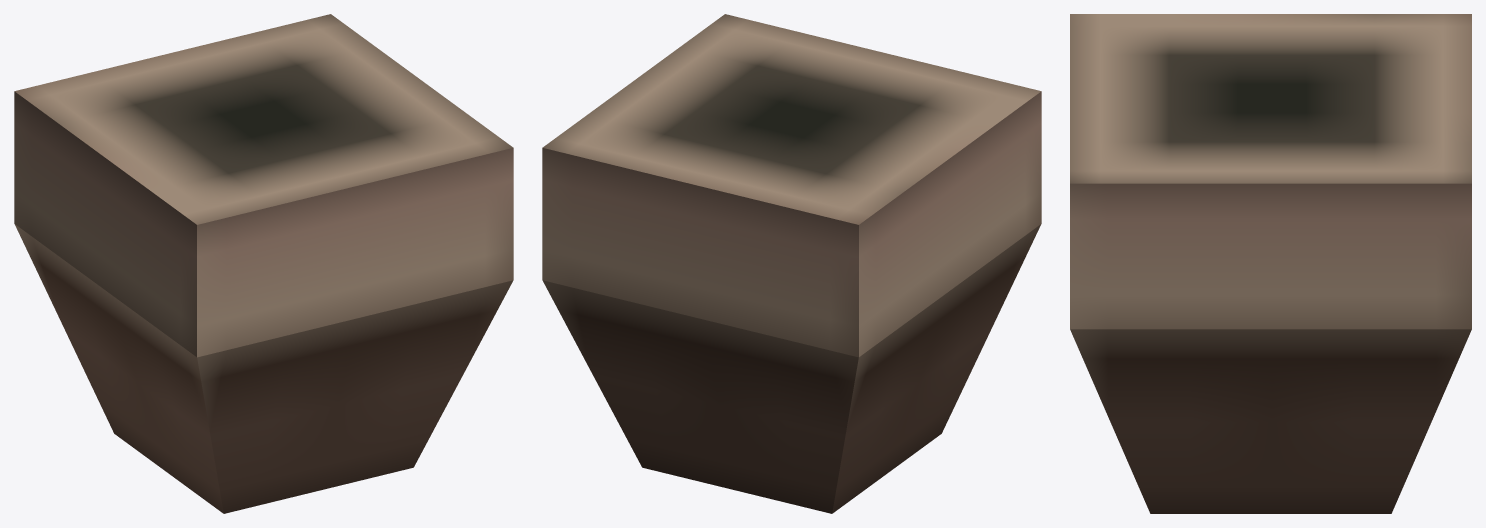
The model's file is vase_06.fbx.
The picture shows the model from 3 angles, left to right: view 1: azimuth 30°, elevation 25°; view 2: azimuth 150°, elevation 25°; view 3: azimuth 270°, elevation 25°; orthographic projection. The views are drawn at different scales.
Visible parts, largest first — view 1: vase_06; view 2: vase_06; view 3: vase_06.
Part boxes in pixels (<box>): vase_06: <box>14,14,513,513</box>; vase_06: <box>542,14,1041,513</box>; vase_06: <box>1070,14,1471,513</box>.
Bounding box in the file's own units: 5 × 5 × 5.
